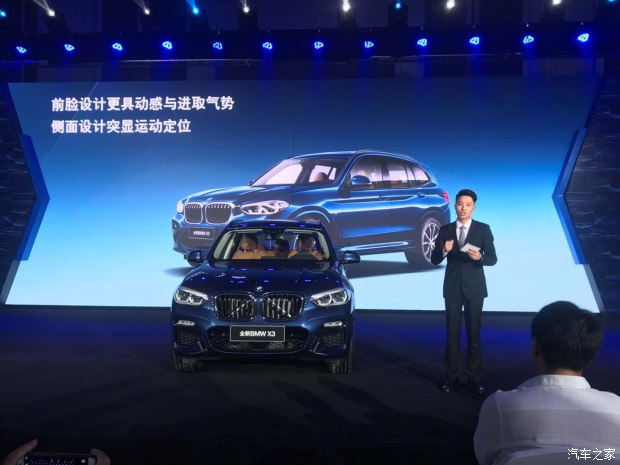other: (432, 186, 514, 395)
